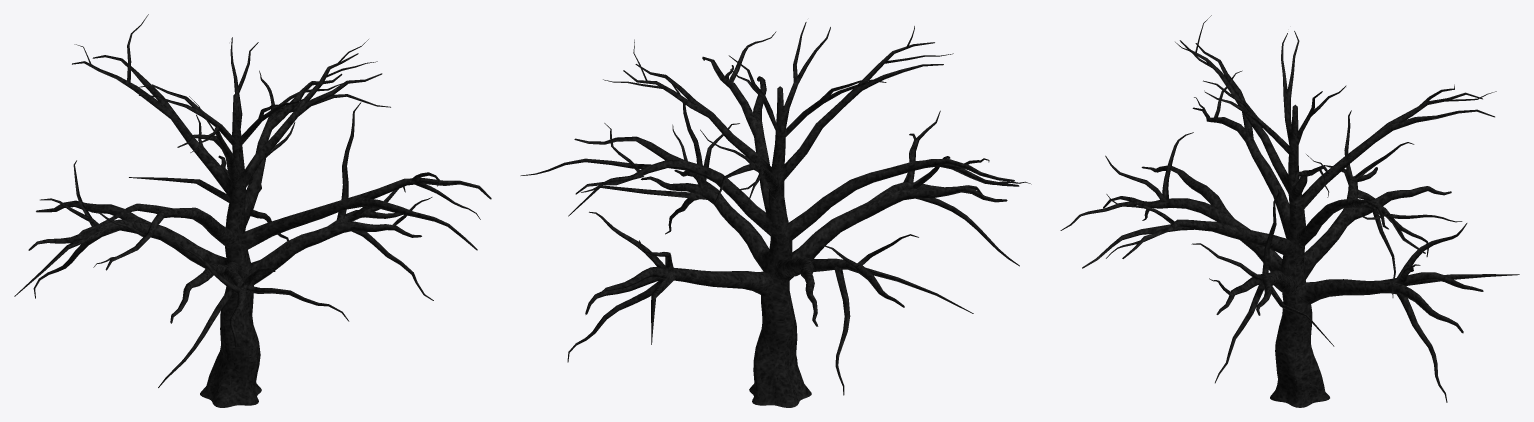
Rendered from SpookTree3.obj.
3 renders of one model, left to right at view 1: azimuth 30°, elevation 25°; view 2: azimuth 150°, elevation 25°; view 3: azimuth 270°, elevation 25°, orthographic. The views are drawn at different scales.
Visible parts, largest first — view 1: Tree_0; view 2: Tree_0; view 3: Tree_0.
Part boxes in pixels (<box>): Tree_0: <box>14,14,491,407</box>; Tree_0: <box>520,22,1031,407</box>; Tree_0: <box>1060,15,1519,407</box>.
Bounding box in the file's own units: 3696 × 3029 × 3721.
